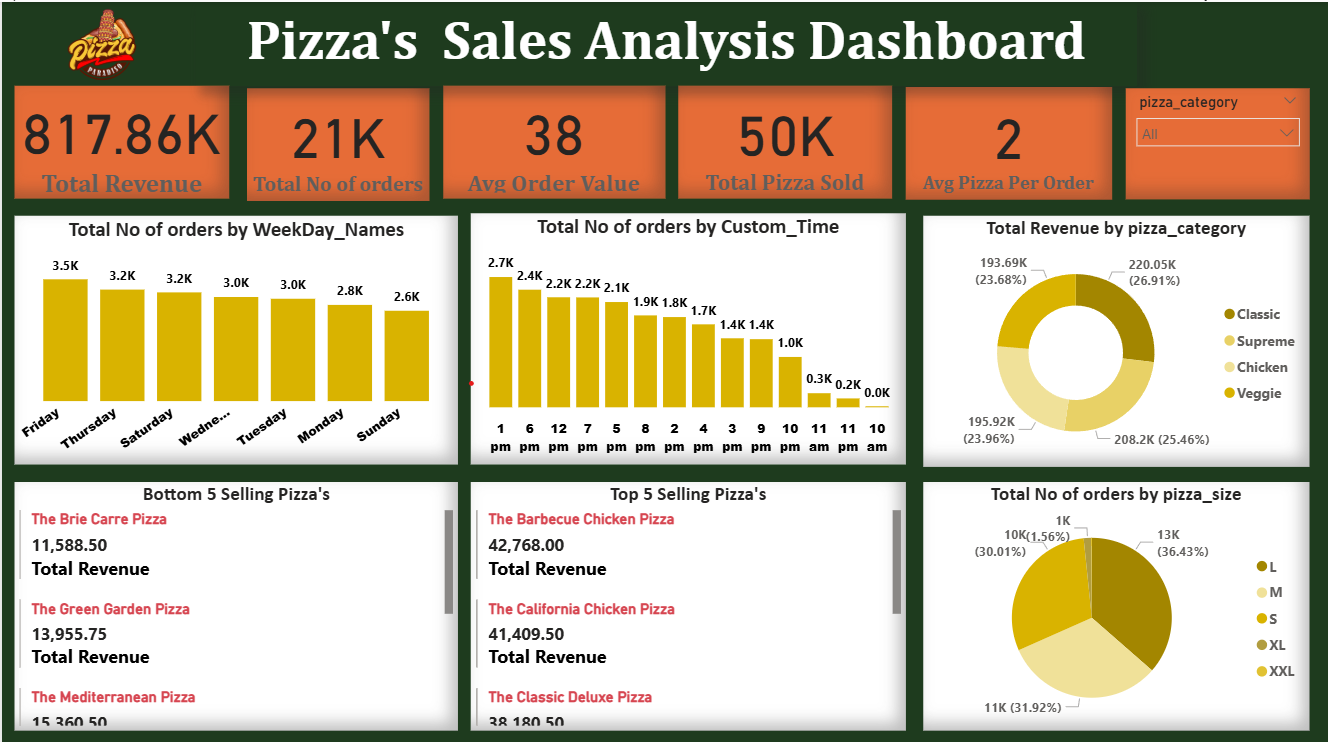

Layout of this report page (visuals, bound fields, positions):
{"tool":"powerbi","page":{"name":"Page 1","canvas":[1280,720],"ordinal":0},"visuals":[{"type":"card","fields":{"Values":["Measures (2).Total Revenue"]},"box":[12.3,81,207.2,108.4],"z":0},{"type":"card","fields":{"Values":["Measures (2).Total No of orders"]},"box":[236.5,83.2,176.1,108.6],"z":1000},{"type":"card","fields":{"Values":["Measures (2).Avg Order Value"]},"box":[425.4,81,214.1,108.4],"z":2000},{"type":"card","fields":{"Values":["Measures (2).Total Pizza Sold"]},"box":[652.7,80.8,206.3,108.6],"z":3000},{"type":"card","fields":{"Values":["Measures (2).Avg Pizza Per Order"]},"box":[872.7,82.3,199,108.4],"z":4000},{"type":"textbox","box":[187,0,908.4,80.8],"z":5000},{"type":"image","box":[0,0,192.1,81],"z":6000},{"type":"slicer","fields":{"Values":["pizza_sales.pizza_category"]},"box":[1084.6,82.7,177.8,107.5],"z":7000},{"type":"columnChart","fields":{"Category":["pizza_sales.WeekDay_Names"],"Y":["Measures (2).Total No of orders"]},"box":[12.1,206.3,428.3,240.1],"z":8000},{"type":"columnChart","fields":{"Category":["pizza_sales.Custom_Time"],"Y":["Measures (2).Total No of orders"]},"box":[452.4,203.9,419.8,242.5],"z":9000},{"type":"donutChart","fields":{"Category":["pizza_sales.pizza_category"],"Y":["Measures (2).Total Revenue"]},"box":[889.1,206.3,372.8,242.5],"z":10000},{"type":"multiRowCard","title":"Bottom 5 Selling Pizza''s","fields":{"Values":["pizza_sales.pizza_name","Measures (2).Total Revenue"]},"box":[12.1,463.3,428.3,240.1],"z":11000},{"type":"multiRowCard","title":"Top 5 Selling Pizza''s","fields":{"Values":["pizza_sales.pizza_name","Measures (2).Total Revenue"]},"box":[452.4,463.3,419.8,240.1],"z":12000},{"type":"pieChart","fields":{"Category":["pizza_sales.pizza_size"],"Y":["Measures (2).Total No of orders"]},"box":[889.1,463.3,372.8,240.1],"z":13000}]}

Visuals, with their boxes in screenshot pixels (x1, y1, x2, y2), scaled from the page's 1280x720 canvas onto the 1328x742 screenshot:
card - Measures (2).Total Revenue: (left=13, top=83, right=228, bottom=195)
card - Measures (2).Total No of orders: (left=245, top=86, right=428, bottom=198)
card - Measures (2).Avg Order Value: (left=441, top=83, right=663, bottom=195)
card - Measures (2).Total Pizza Sold: (left=677, top=83, right=891, bottom=195)
card - Measures (2).Avg Pizza Per Order: (left=905, top=85, right=1112, bottom=197)
textbox: (left=194, top=0, right=1136, bottom=83)
image: (left=0, top=0, right=199, bottom=83)
slicer - pizza_sales.pizza_category: (left=1125, top=85, right=1310, bottom=196)
columnChart - pizza_sales.WeekDay_Names x Measures (2).Total No of orders: (left=13, top=213, right=457, bottom=460)
columnChart - pizza_sales.Custom_Time x Measures (2).Total No of orders: (left=469, top=210, right=905, bottom=460)
donutChart - pizza_sales.pizza_category x Measures (2).Total Revenue: (left=922, top=213, right=1309, bottom=463)
"Bottom 5 Selling Pizza''s" multiRowCard: (left=13, top=477, right=457, bottom=725)
"Top 5 Selling Pizza''s" multiRowCard: (left=469, top=477, right=905, bottom=725)
pieChart - pizza_sales.pizza_size x Measures (2).Total No of orders: (left=922, top=477, right=1309, bottom=725)
